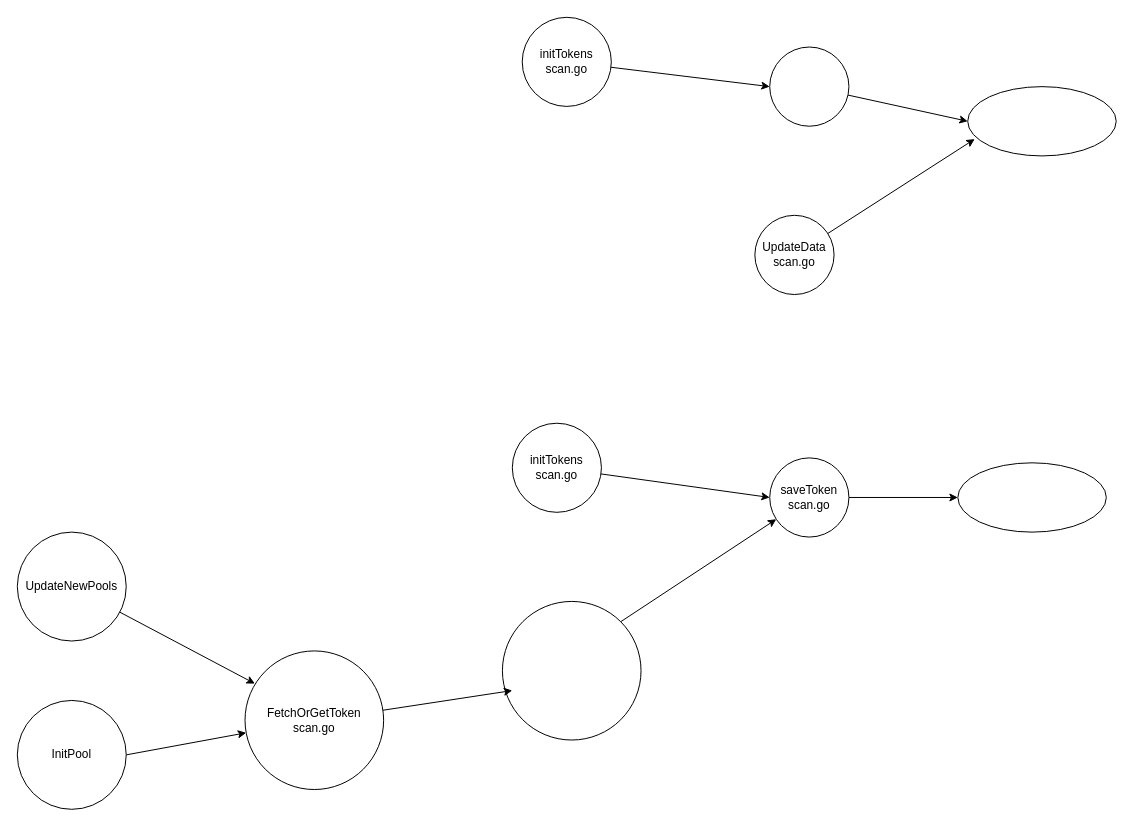
This 1134x827 diagram has some shape labels left out. The centre of each missing label's shape, as x and y in pixels:
FetchOrGetTokenType scan.go: point (571, 670)
SavePrice scan.go: point (809, 86)
Update prices hash (price service): point (1041, 121)
Update token hash (token service): point (1031, 497)
